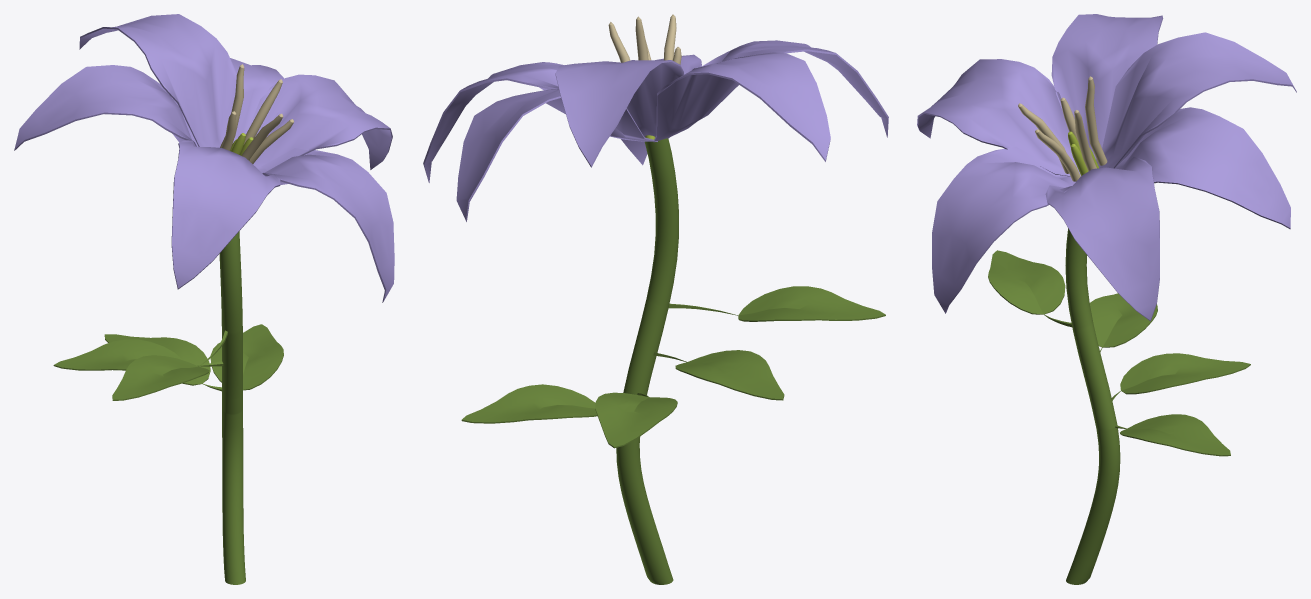
Rendered from Flower_2.fbx.
3 views of the same model, side by side, from view 1: azimuth 30°, elevation 25°; view 2: azimuth 150°, elevation 25°; view 3: azimuth 270°, elevation 25° (orthographic). The views are drawn at different scales.
Visible parts, largest first — view 1: stem1; view 2: stem1; view 3: stem1.
Boxes of the visible parts, x1,y1,x2,y2 form: stem1: (14, 14, 394, 584); stem1: (423, 14, 888, 584); stem1: (917, 14, 1296, 584).
Size of the model in its own units: 29.86 by 40.85 by 26.95.
